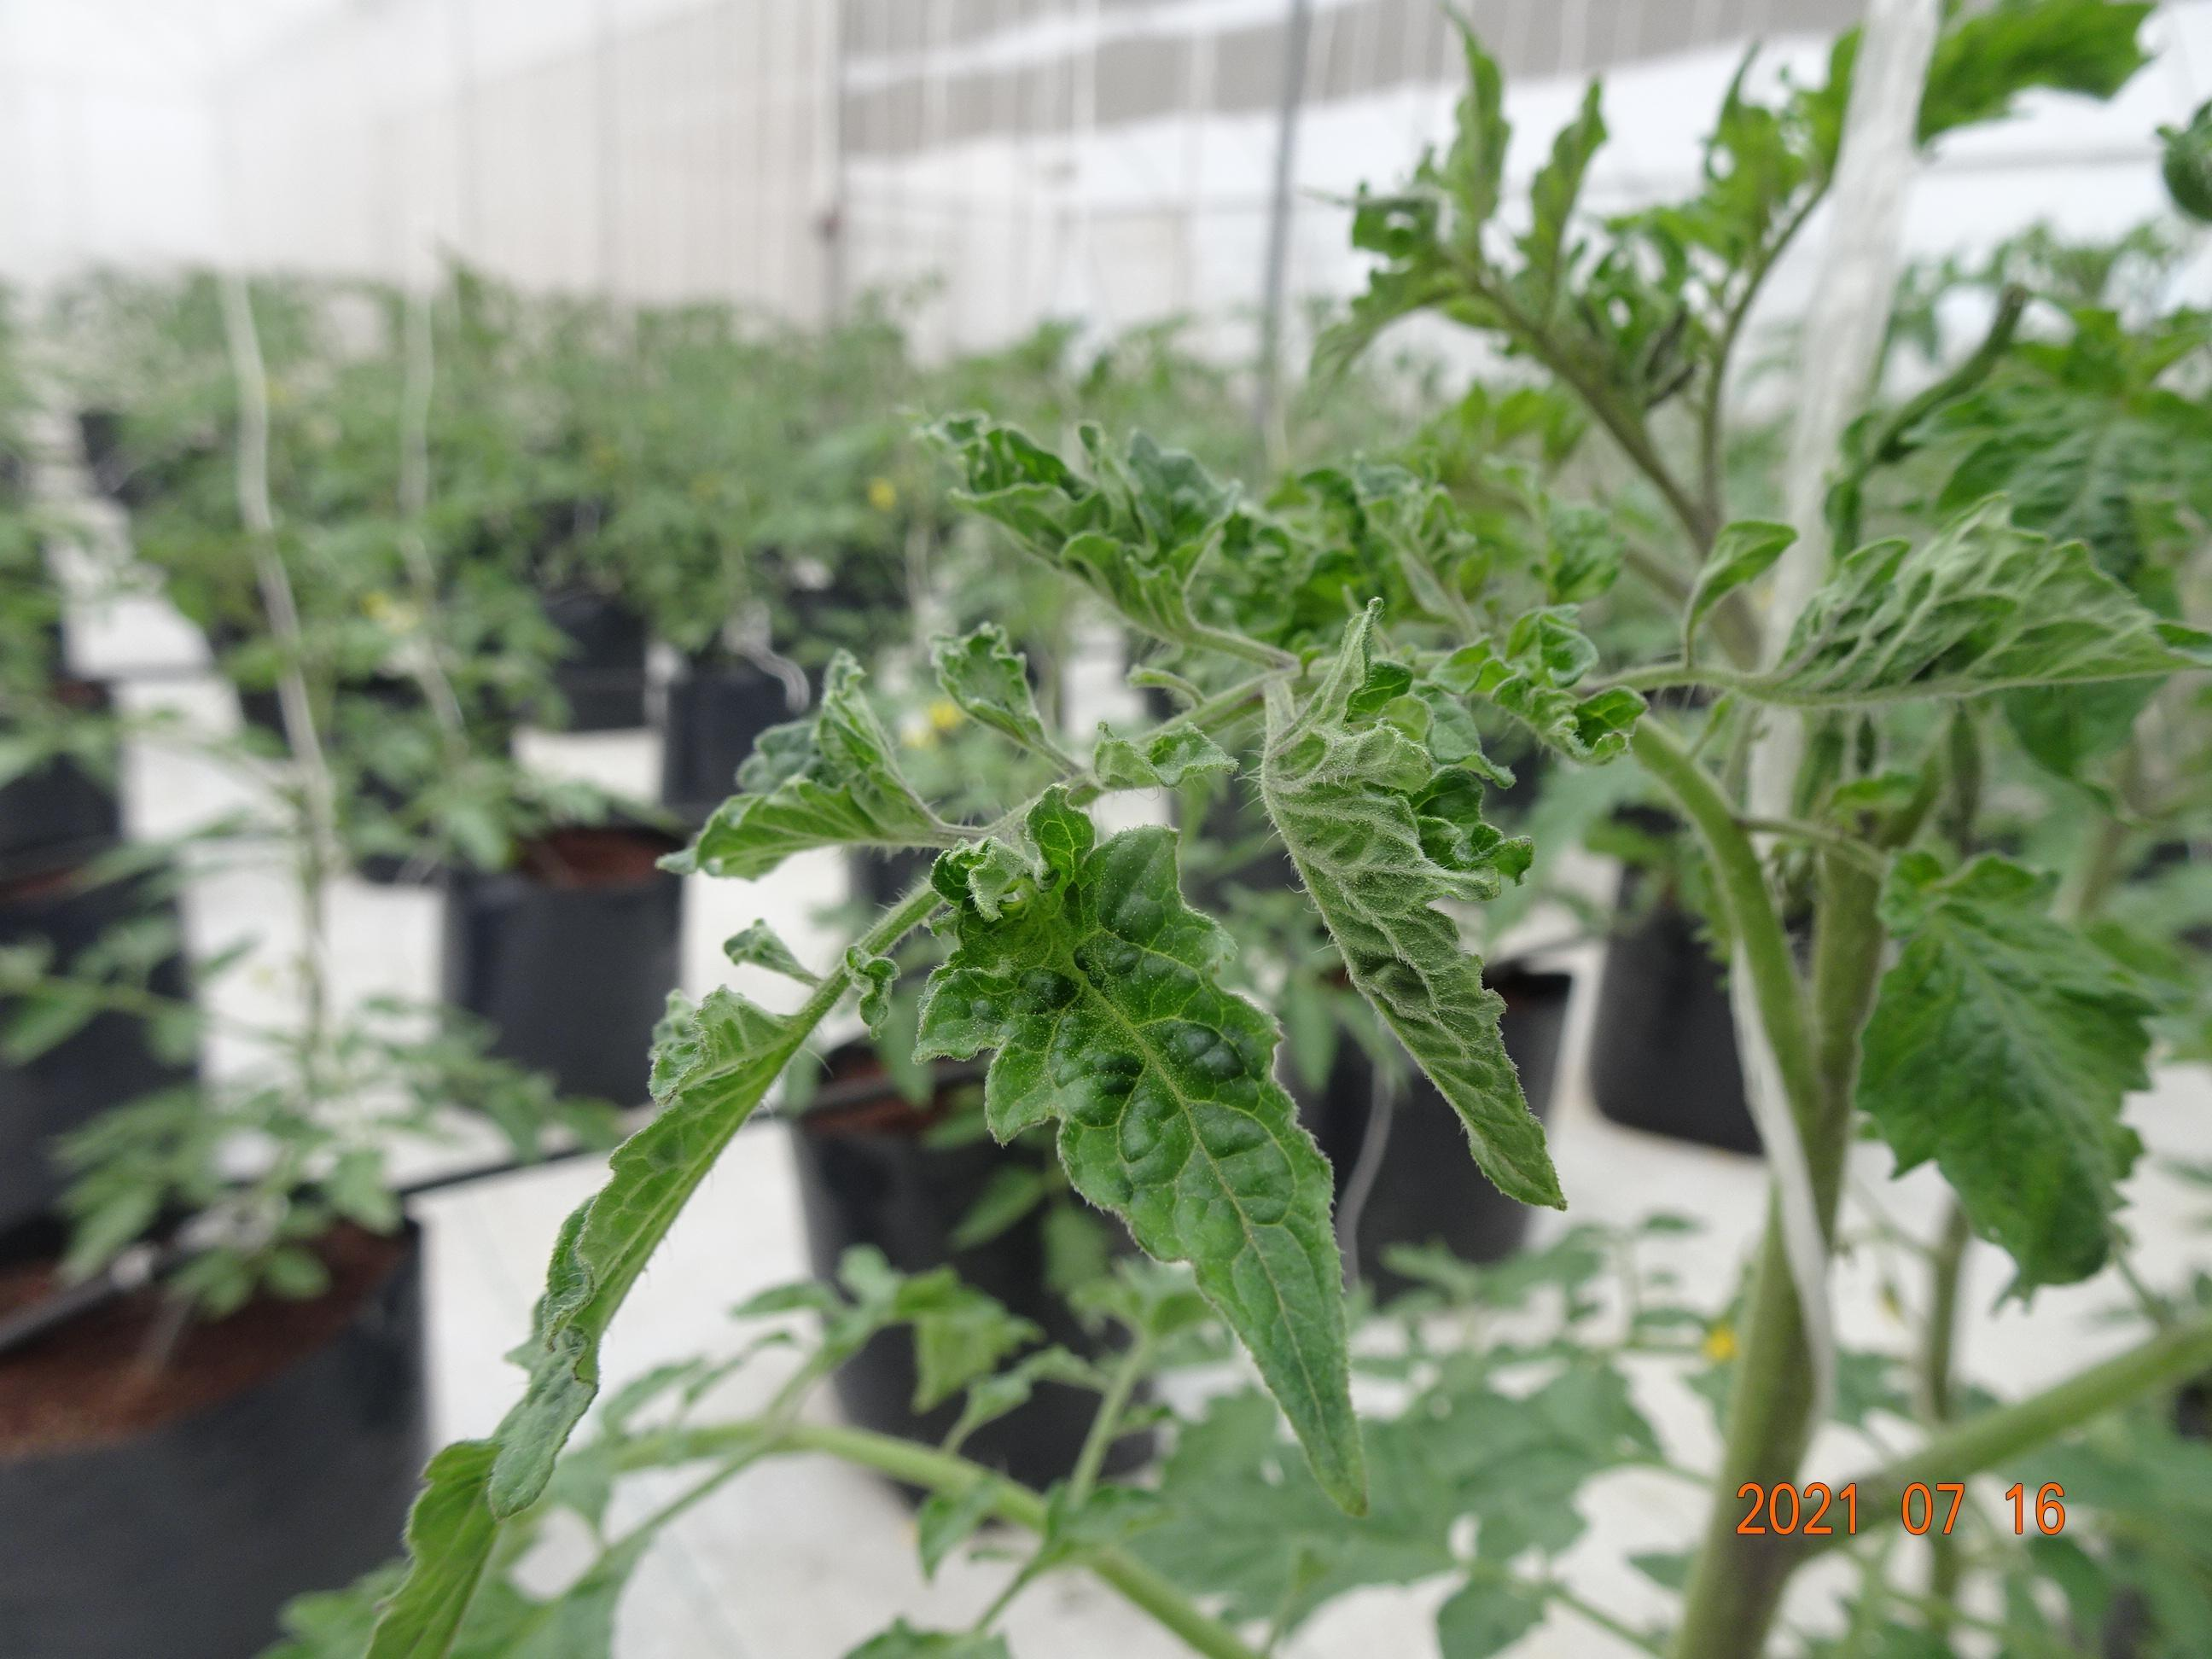Rugose leaf: (916, 788, 1366, 1511), (843, 943, 899, 1037)
